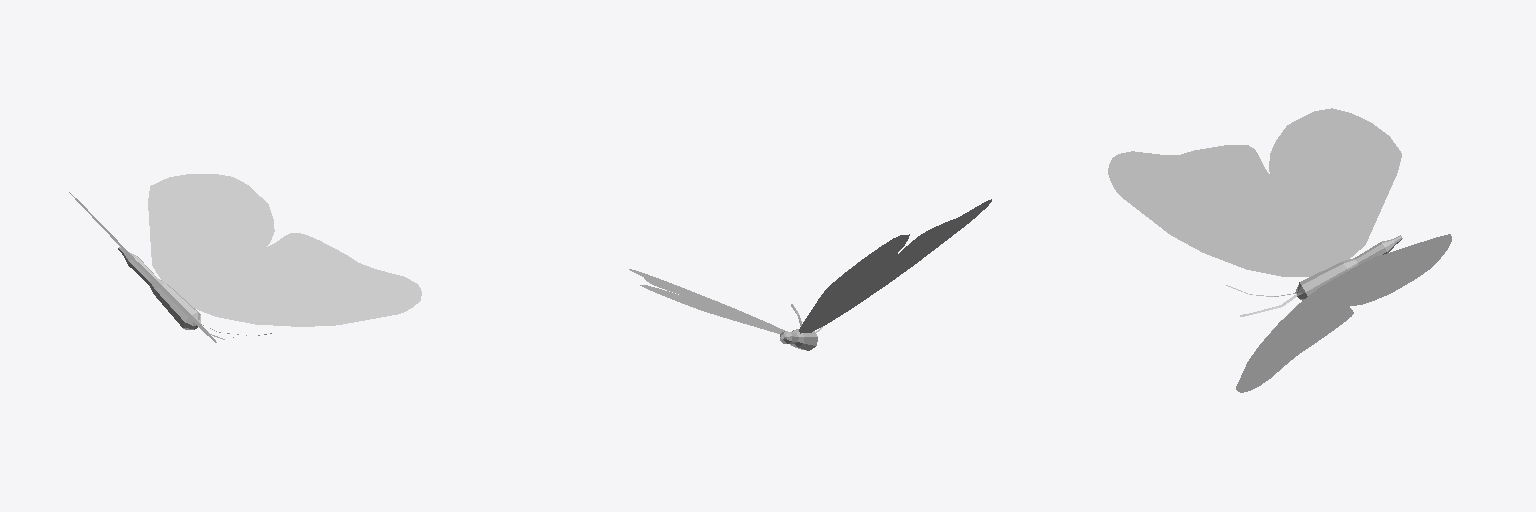
Rendered from butterfly_3.obj.
3 views of the same model, side by side, from view 1: azimuth 30°, elevation 25°; view 2: azimuth 150°, elevation 25°; view 3: azimuth 270°, elevation 25° (orthographic).
Visible parts, largest first — view 1: Butterfly.005; view 2: Butterfly.005; view 3: Butterfly.005.
Boxes of the visible parts, box(x1,y1,x2,y2) form: Butterfly.005: box(69, 174, 421, 342); Butterfly.005: box(629, 199, 991, 350); Butterfly.005: box(1108, 108, 1451, 392).
Size of the model in its own units: 2.03 by 0.9436 by 2.